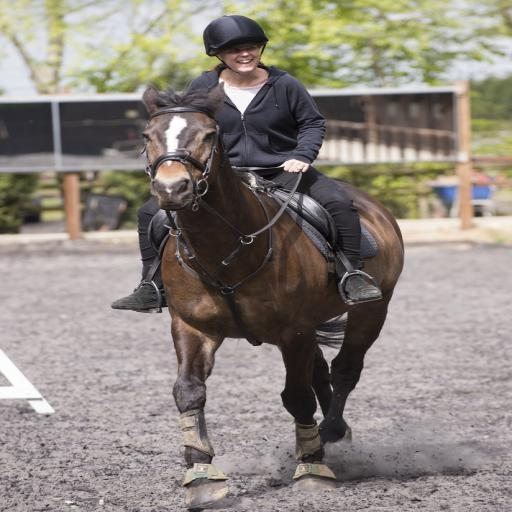horse: (139, 84, 405, 510)
